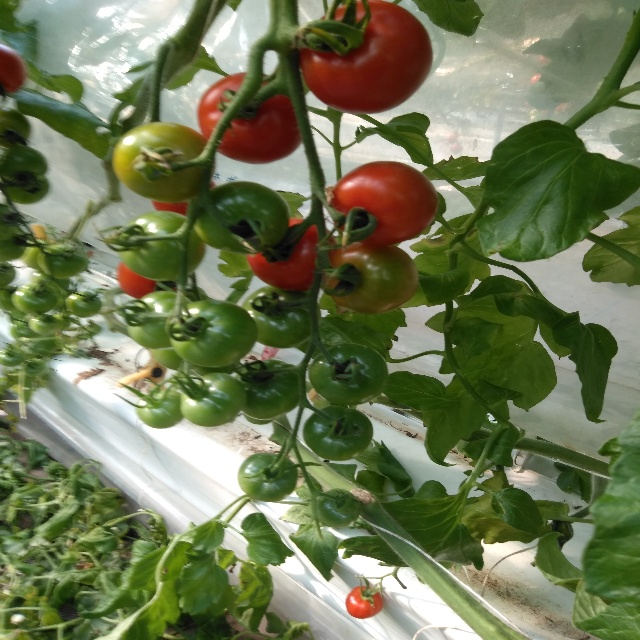l_fully_ripened: (301, 0, 433, 115), (197, 72, 302, 165), (329, 160, 440, 247), (246, 217, 337, 292), (117, 263, 178, 299), (0, 44, 27, 95), (346, 586, 383, 619)
l_green: (191, 181, 290, 255), (117, 210, 205, 281), (170, 299, 258, 368), (307, 343, 388, 405), (243, 285, 321, 349), (233, 359, 301, 420), (303, 406, 373, 462), (127, 290, 193, 348), (180, 373, 246, 427), (237, 452, 299, 503), (135, 391, 183, 430), (315, 487, 360, 528), (0, 145, 47, 183), (37, 243, 86, 279), (12, 279, 59, 313), (3, 176, 49, 205), (0, 105, 31, 148), (150, 346, 199, 371), (66, 290, 101, 317), (0, 227, 26, 262), (28, 313, 57, 334), (0, 346, 25, 367), (0, 262, 15, 286)
l_half_ripened: (111, 122, 214, 203), (321, 243, 420, 314)
